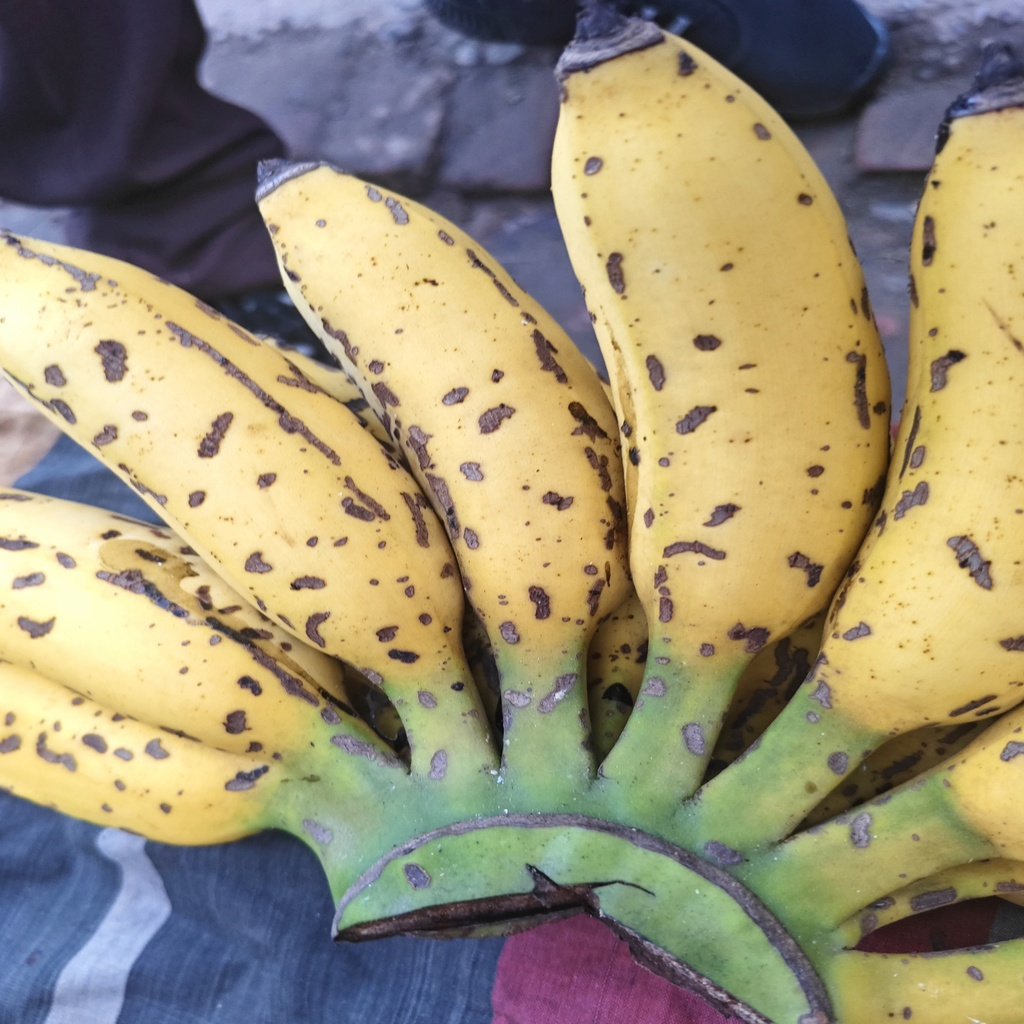unhealthy: (550, 24, 889, 669), (256, 152, 629, 737), (3, 230, 463, 670)
